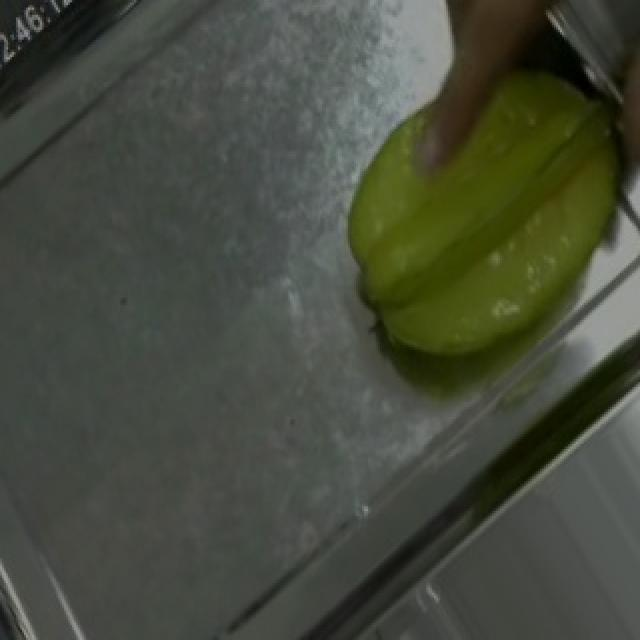fruit: (296, 0, 640, 424)
